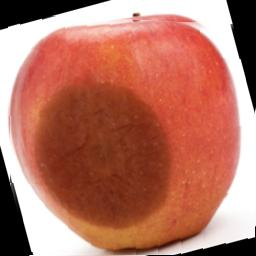Apple Rotten: (8, 14, 256, 255)
